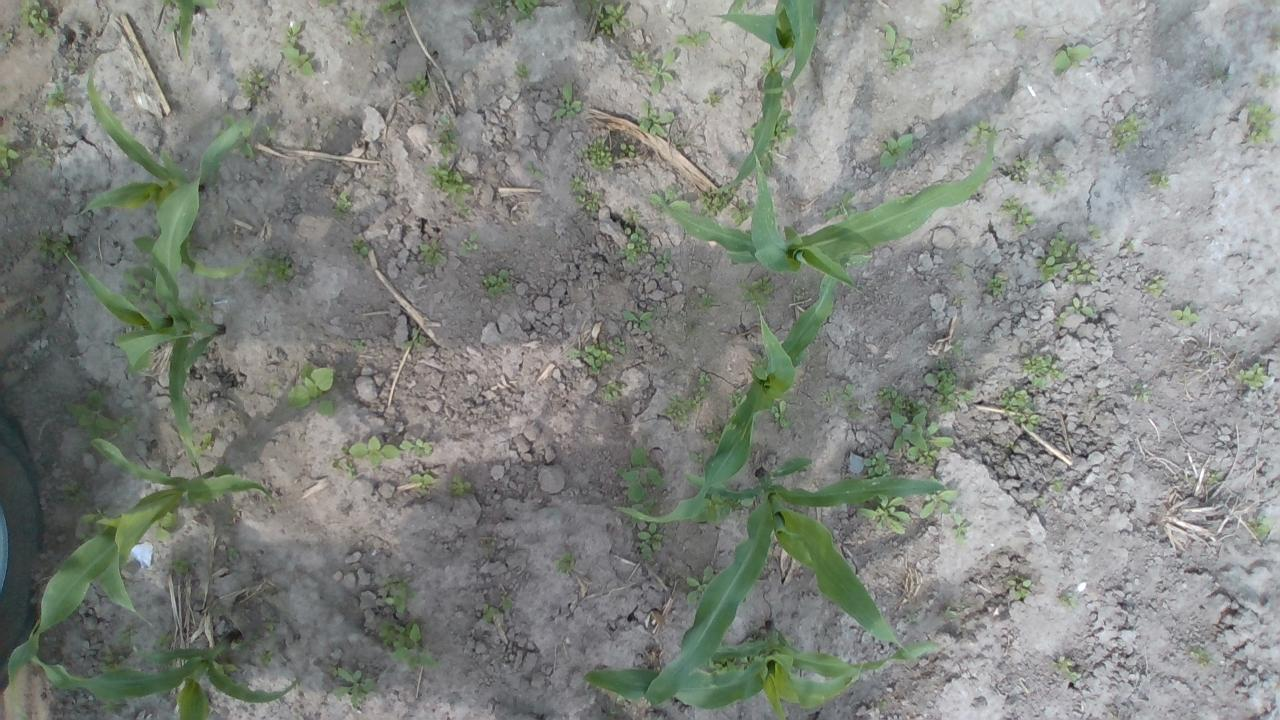Maize: (612, 454, 948, 720), (5, 436, 272, 720), (57, 119, 250, 476), (620, 257, 849, 526), (661, 129, 998, 290), (81, 55, 254, 280), (578, 625, 950, 720), (29, 631, 295, 720), (707, 0, 814, 198), (723, 0, 819, 101), (167, 0, 218, 67)
Weeds: (891, 410, 952, 470), (374, 614, 436, 671), (286, 362, 338, 417), (616, 446, 664, 502), (65, 389, 116, 439), (856, 494, 913, 534), (424, 158, 475, 202), (999, 384, 1043, 432), (121, 265, 164, 314), (1036, 232, 1076, 282), (692, 493, 756, 524), (329, 666, 376, 708), (251, 248, 295, 290), (377, 574, 422, 614), (1020, 351, 1066, 388), (877, 386, 929, 418), (1110, 112, 1150, 153), (880, 22, 914, 70), (569, 340, 614, 376), (350, 436, 400, 468), (31, 232, 79, 265), (14, 0, 53, 38), (925, 369, 957, 413), (737, 274, 774, 312), (706, 651, 762, 676), (1244, 102, 1278, 143), (648, 50, 678, 96), (636, 100, 674, 136), (1052, 44, 1094, 75), (0, 132, 21, 192), (577, 137, 614, 171), (340, 10, 374, 47), (878, 134, 914, 168), (684, 562, 714, 602), (430, 116, 460, 156), (649, 185, 690, 214), (700, 185, 736, 216), (620, 226, 650, 263), (919, 490, 958, 518), (236, 66, 270, 98), (552, 82, 582, 118), (664, 395, 696, 428), (637, 521, 664, 560), (282, 46, 314, 78), (79, 505, 112, 536), (150, 509, 180, 542), (597, 3, 627, 36), (1050, 655, 1084, 684), (1234, 360, 1269, 388), (42, 80, 72, 112), (478, 268, 512, 296), (768, 110, 796, 144), (824, 190, 856, 219), (940, 0, 969, 31), (622, 308, 656, 334), (1038, 166, 1068, 194), (95, 646, 126, 672), (950, 512, 972, 548), (233, 124, 256, 158), (190, 286, 213, 320), (864, 450, 892, 477), (512, 0, 542, 25), (409, 467, 436, 494), (1012, 157, 1038, 185), (970, 119, 996, 147), (404, 71, 430, 98), (399, 437, 433, 457), (1008, 574, 1032, 602), (731, 200, 756, 226), (378, 0, 411, 19), (420, 241, 445, 266), (770, 399, 790, 430), (1068, 260, 1096, 282), (335, 188, 354, 220), (1170, 306, 1200, 326), (1014, 205, 1036, 232), (445, 476, 473, 497), (676, 32, 710, 49), (631, 501, 655, 525), (402, 327, 426, 350), (1248, 516, 1273, 538), (59, 479, 82, 502), (214, 115, 238, 137), (758, 146, 778, 172), (116, 412, 138, 435), (1066, 297, 1094, 315), (280, 22, 302, 44), (458, 232, 480, 254), (554, 552, 576, 574), (1143, 274, 1165, 296), (986, 275, 1008, 297), (218, 652, 240, 674), (1189, 646, 1212, 667), (196, 431, 218, 452), (704, 422, 726, 443), (118, 624, 138, 646), (350, 238, 372, 258), (1134, 382, 1154, 403), (1150, 170, 1170, 191), (630, 50, 649, 72), (656, 248, 672, 274), (724, 388, 744, 408), (834, 383, 854, 403), (602, 381, 620, 403), (154, 630, 174, 649), (622, 206, 642, 225), (697, 292, 718, 310), (170, 556, 190, 574), (844, 402, 864, 420), (998, 196, 1018, 214), (165, 12, 181, 34), (1060, 592, 1078, 611), (525, 162, 544, 180), (1258, 73, 1280, 88), (343, 458, 357, 480), (618, 142, 636, 159), (482, 603, 499, 621), (585, 191, 600, 211), (258, 648, 276, 664), (1212, 64, 1228, 82), (455, 202, 473, 218), (704, 91, 722, 107), (568, 176, 586, 192), (956, 389, 975, 404), (468, 8, 488, 22), (692, 385, 708, 402), (349, 338, 367, 352), (951, 338, 965, 356), (1271, 23, 1280, 50), (580, 0, 602, 11), (0, 29, 15, 45), (689, 452, 706, 466), (750, 354, 767, 368), (1050, 477, 1064, 494), (260, 124, 279, 136), (1089, 224, 1103, 240), (614, 337, 626, 355), (500, 596, 515, 610), (819, 390, 834, 404), (937, 354, 951, 369), (944, 605, 959, 619), (1054, 312, 1068, 327), (516, 63, 530, 78), (28, 147, 42, 161), (264, 617, 277, 632), (28, 293, 43, 305), (266, 379, 278, 394), (1206, 472, 1222, 483), (760, 58, 771, 74), (1013, 28, 1026, 40), (34, 310, 47, 322), (76, 531, 90, 542), (318, 0, 339, 7), (696, 370, 708, 382), (956, 262, 964, 279), (228, 546, 240, 557), (332, 457, 342, 470), (876, 700, 889, 710), (1006, 437, 1016, 450), (1033, 496, 1044, 507), (228, 506, 238, 518), (574, 195, 586, 204), (686, 326, 699, 334), (1210, 352, 1220, 362), (68, 62, 78, 72), (674, 138, 682, 150), (746, 636, 759, 643), (1127, 239, 1135, 250), (160, 0, 172, 7), (930, 474, 940, 482), (748, 126, 756, 136), (44, 158, 53, 166), (342, 444, 349, 454), (999, 164, 1007, 172)
